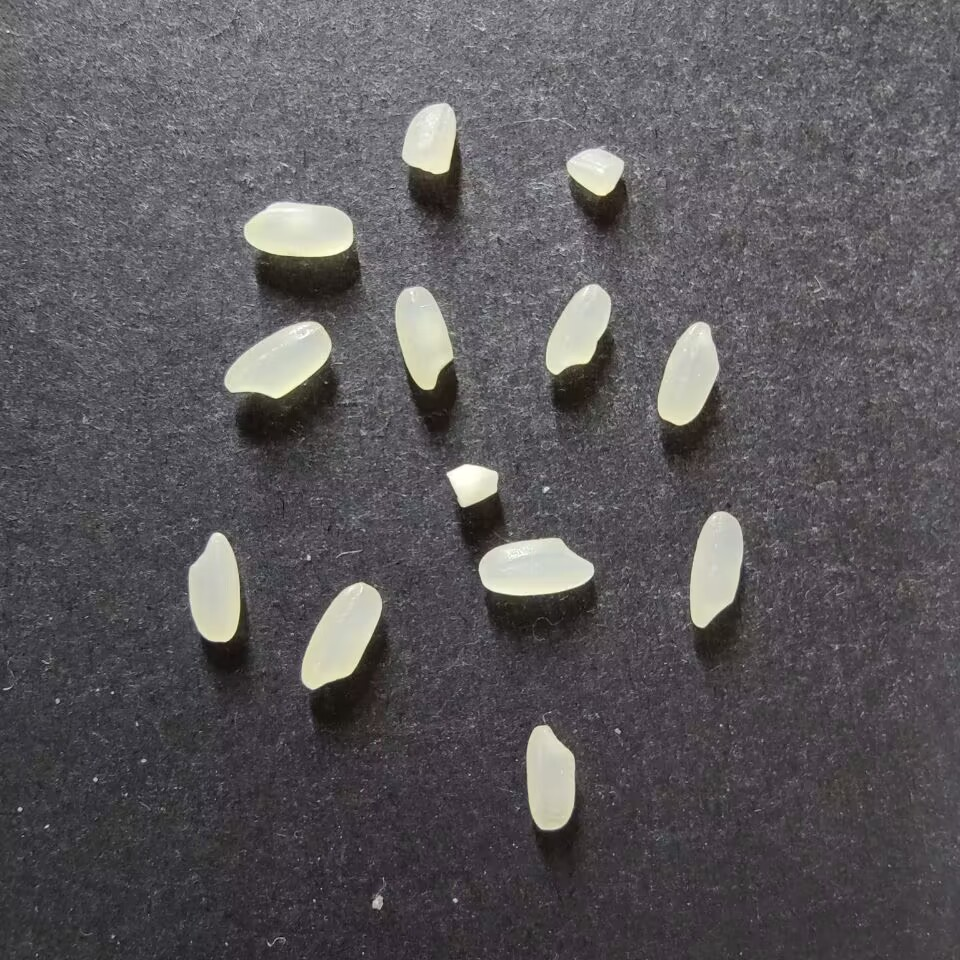broken: (400, 102, 456, 175), (565, 147, 624, 196), (445, 463, 499, 508)
rice: (300, 582, 382, 690), (223, 320, 331, 398), (478, 537, 594, 595), (656, 321, 719, 426), (688, 511, 743, 627), (393, 286, 454, 390), (243, 201, 353, 258), (544, 283, 611, 375), (187, 531, 241, 643), (525, 724, 576, 830)
